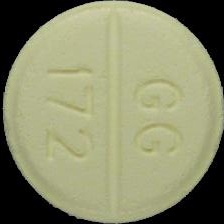0179-0039: (0, 0, 224, 224)
